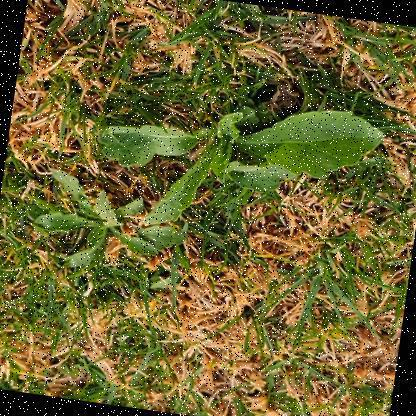Weeds: (83, 76, 387, 255), (14, 165, 193, 281)
